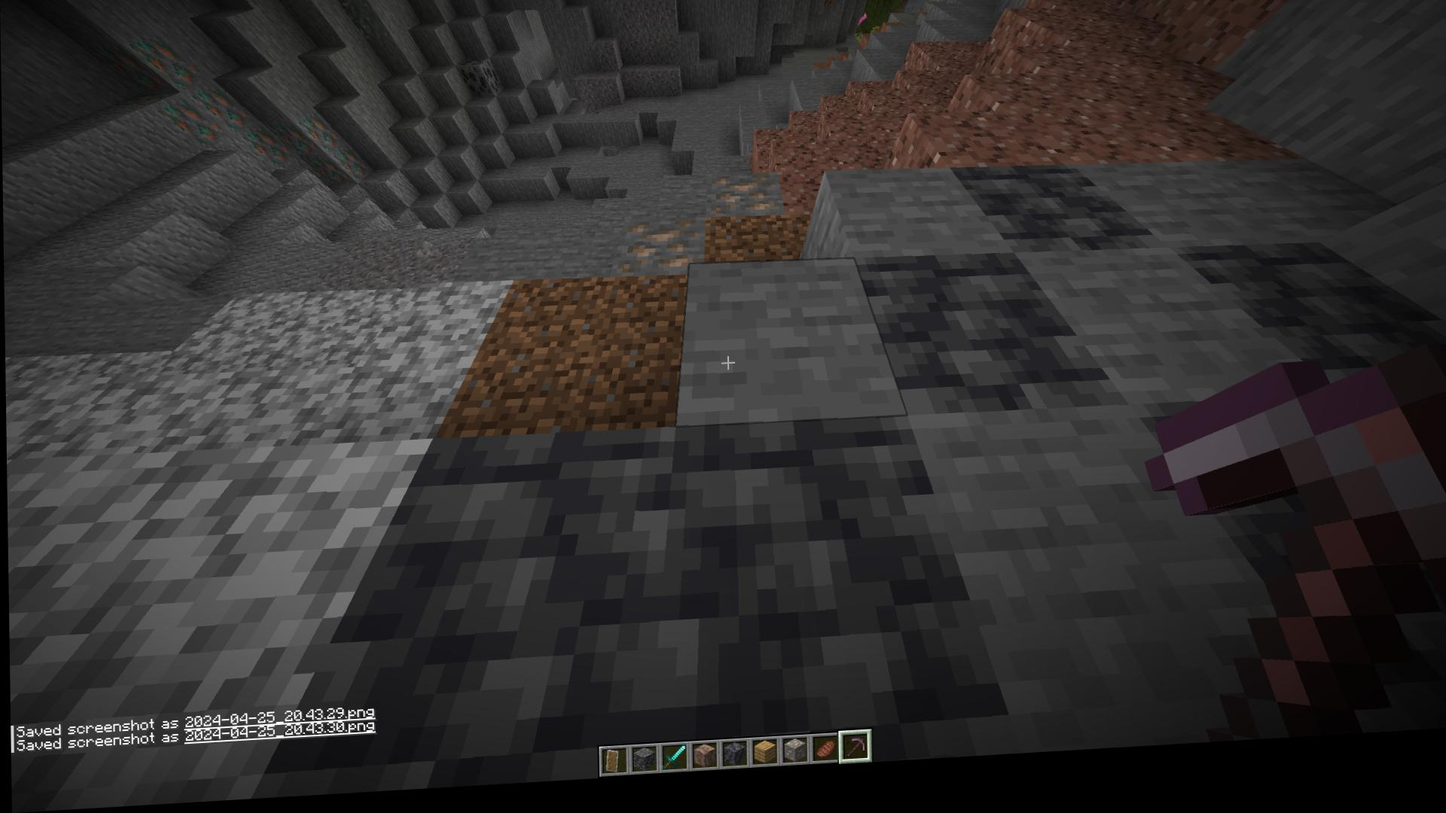iron ore: (613, 223, 704, 286), (708, 178, 779, 228)
